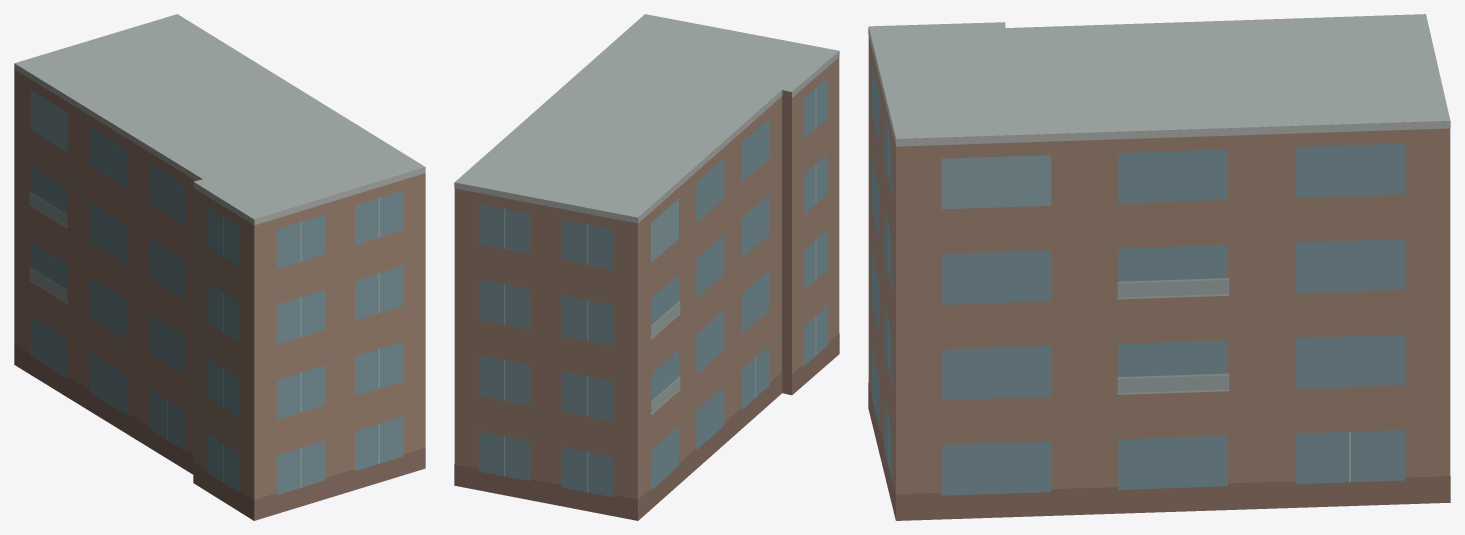
The model's file is survey-upis-32701383.glb.
The picture shows the model from 3 angles, left to right: view 1: azimuth 30°, elevation 25°; view 2: azimuth 150°, elevation 25°; view 3: azimuth 270°, elevation 25°; orthographic projection. The views are drawn at different scales.
Parts seen in each view (by area): view 1: survey-upis-32701383.tmp; view 2: survey-upis-32701383.tmp; view 3: survey-upis-32701383.tmp.
Boxes of the visible parts, x1,y1,x2,y2 form: survey-upis-32701383.tmp: (14, 14, 425, 520); survey-upis-32701383.tmp: (454, 14, 839, 520); survey-upis-32701383.tmp: (868, 14, 1450, 520).
Bounding box in the file's own units: 8.65 × 12.3 × 17.
